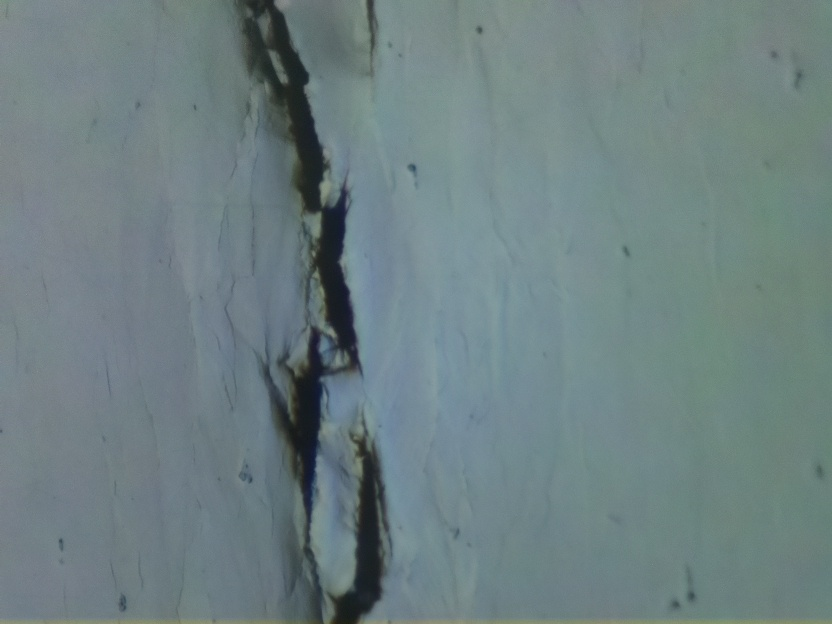crack: (238, 0, 393, 623), (354, 0, 384, 89)
